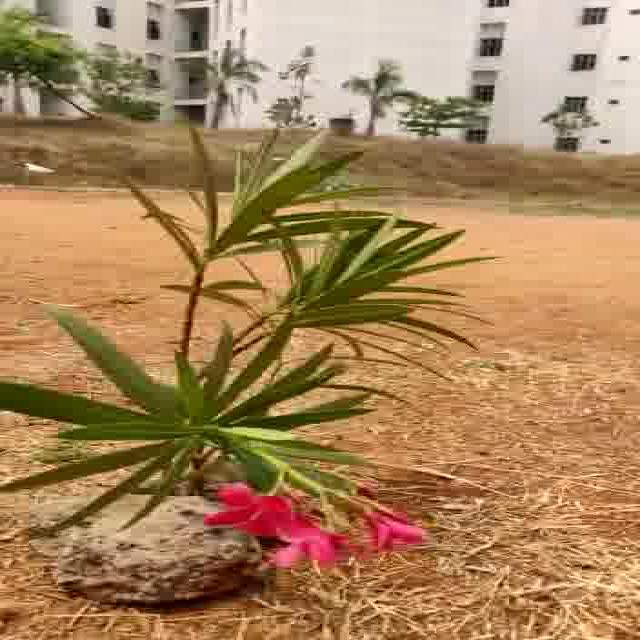Oleander: (61, 142, 481, 563)
